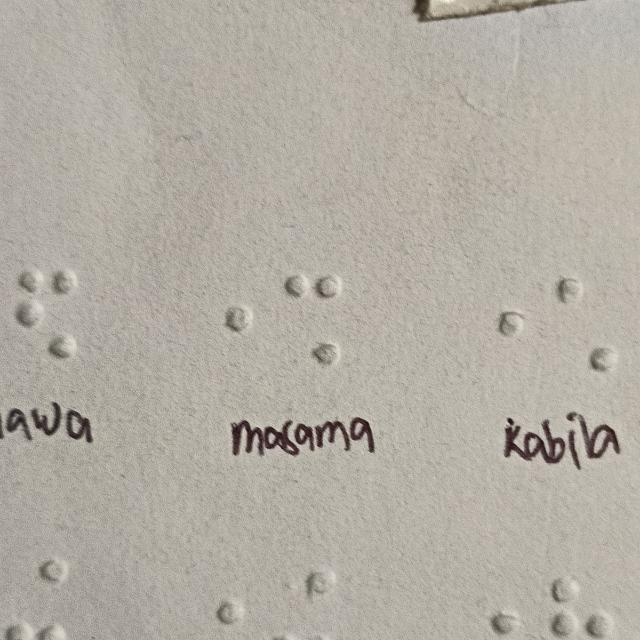dot_5: (192, 273, 255, 368), (465, 276, 528, 371)
two_cell_non_alphabet_kabila: (555, 278, 618, 373)
two_cell_non_alphabet_masama: (280, 269, 343, 364)
two_cell_non_alphabet_nawa: (15, 266, 78, 361)
